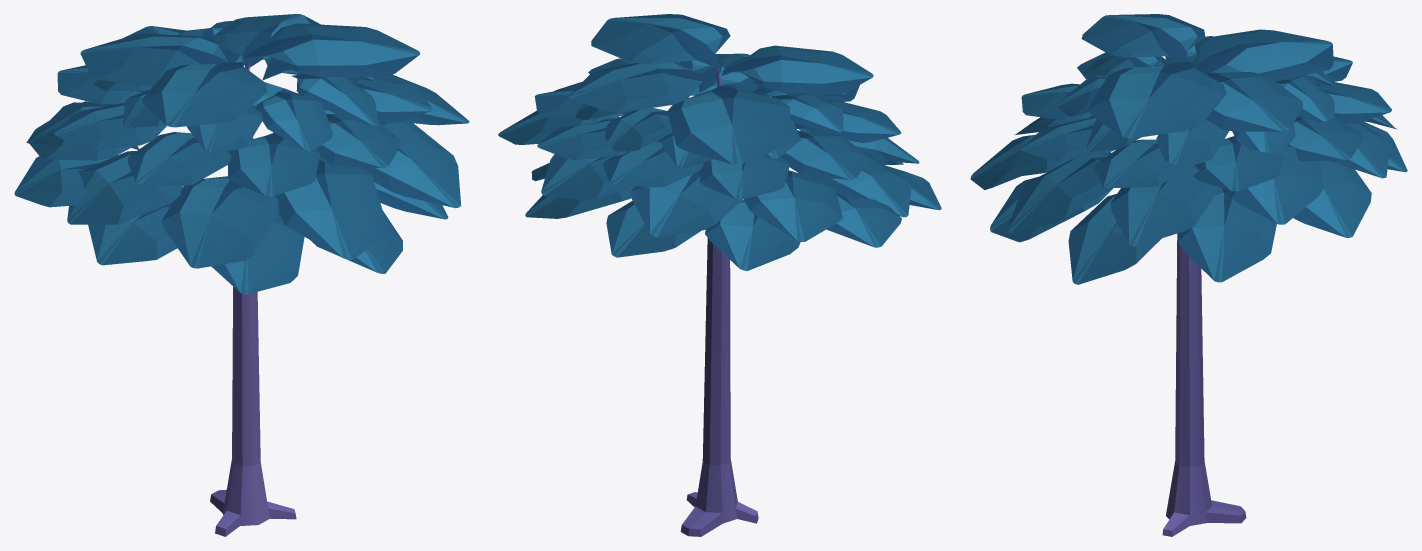
The model's file is Garden_HousePlant12.fbx.
3 renders of one model, left to right at view 1: azimuth 30°, elevation 25°; view 2: azimuth 150°, elevation 25°; view 3: azimuth 270°, elevation 25°, orthographic. The views are drawn at different scales.
Visible parts, largest first — view 1: Cylinder.224; view 2: Cylinder.224; view 3: Cylinder.224.
Boxes of the visible parts, x1,y1,x2,y2 form: Cylinder.224: (14,14,469,536); Cylinder.224: (498,14,941,536); Cylinder.224: (970,14,1407,536).
Size of the model in its own units: 105 by 121 by 102.
